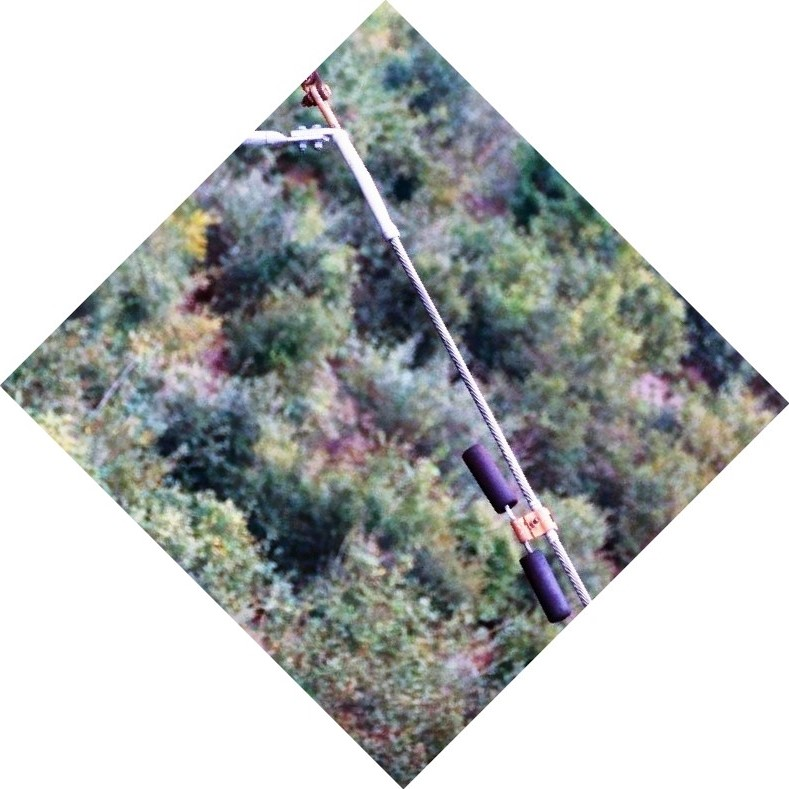Shockproof hammer: (457, 423, 582, 628)
